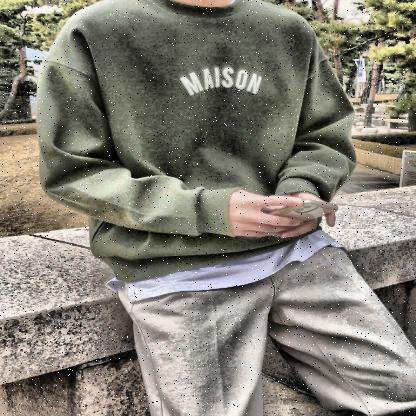short sleeve shirt: (106, 227, 349, 300)
sweater: (33, 0, 360, 284)
trousers: (114, 242, 415, 416)
